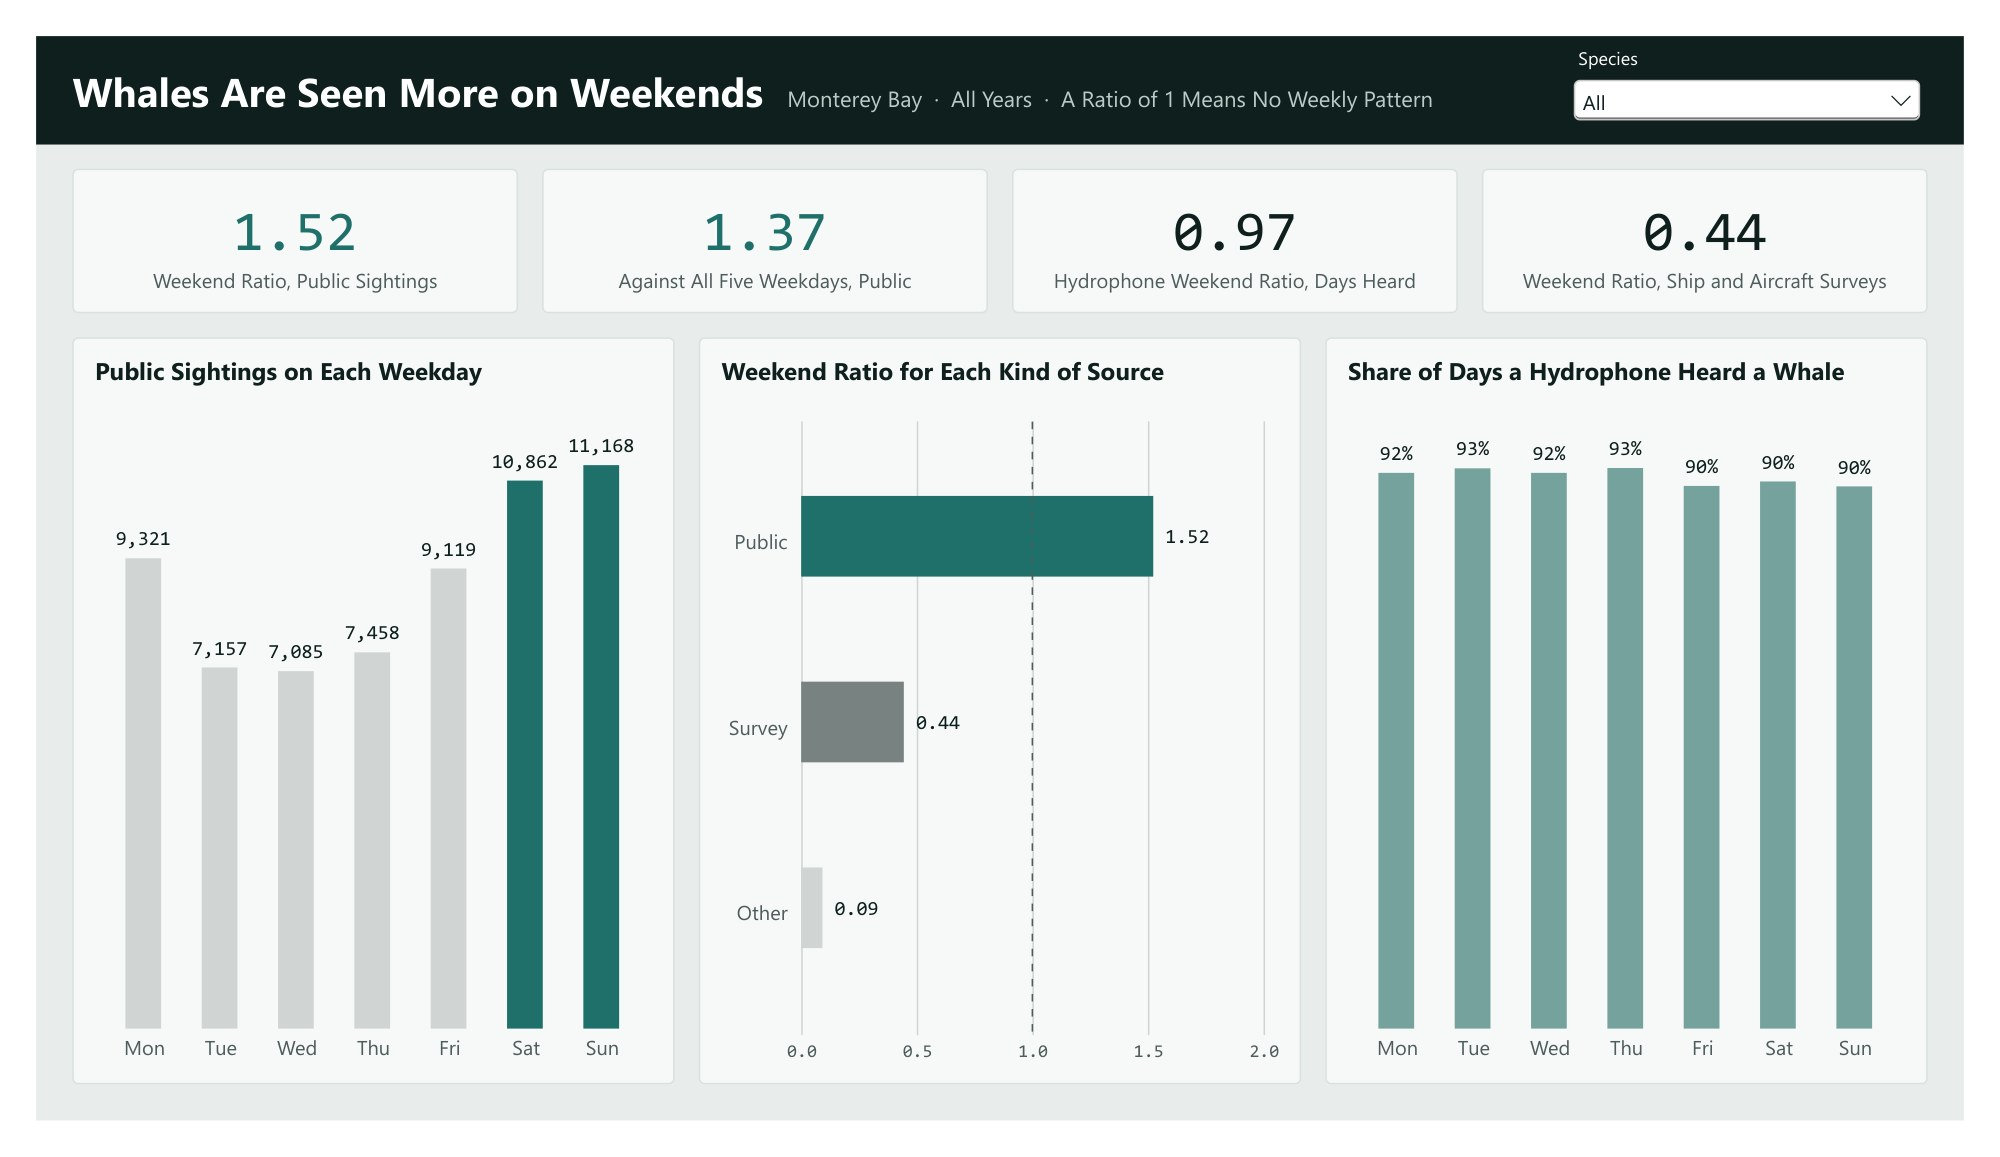

The page's visual inventory and layout, read from the dashboard file:
{"tool":"powerbi","page":{"name":"Whales Are Seen More on Weekends","canvas":[1280,720],"ordinal":0},"visuals":[{"type":"textbox","box":[0,0,1280,72],"z":1000},{"type":"slicer","fields":{"Values":["dim_species.common_name"]},"box":[1016,6,240,62],"z":2000},{"type":"card","fields":{"Values":["fct_sighting.Weekend Ratio"]},"box":[24,88,296,96],"z":3000},{"type":"card","fields":{"Values":["fct_sighting.Weekend Ratio Against All Weekdays"]},"box":[336,88,296,96],"z":4000},{"type":"card","fields":{"Values":["fct_sighting.Heard Day Ratio"]},"box":[648,88,296,96],"z":5000},{"type":"card","fields":{"Values":["fct_sighting.Weekend Ratio"]},"box":[960,88,296,96],"z":6000},{"type":"clusteredColumnChart","title":"Public Sightings on Each Weekday","fields":{"Category":["dim_date.weekday_name"],"Y":["fct_sighting.Records"]},"box":[24,200,400,496],"z":7000},{"type":"clusteredBarChart","title":"Weekend Ratio for Each Kind of Source","fields":{"Category":["dim_dataset.kind"],"Y":["fct_sighting.Weekend Ratio"]},"box":[440,200,400,496],"z":8000},{"type":"clusteredColumnChart","title":"Share of Days a Hydrophone Heard a Whale","fields":{"Category":["dim_date.weekday_name"],"Y":["fct_sighting.Share of Days Heard"]},"box":[856,200,400,496],"z":9000}]}

Visuals, with their boxes in screenshot pixels (x1, y1, x2, y2), scaled from the page's 1280x720 canvas onto the 2000x1157 screenshot:
textbox: box=[0, 0, 1999, 116]
slicer - dim_species.common_name: box=[1588, 10, 1962, 109]
card - fct_sighting.Weekend Ratio: box=[38, 141, 500, 296]
card - fct_sighting.Weekend Ratio Against All Weekdays: box=[525, 141, 988, 296]
card - fct_sighting.Heard Day Ratio: box=[1012, 141, 1475, 296]
card - fct_sighting.Weekend Ratio: box=[1500, 141, 1962, 296]
"Public Sightings on Each Weekday" clusteredColumnChart: box=[38, 321, 662, 1118]
"Weekend Ratio for Each Kind of Source" clusteredBarChart: box=[688, 321, 1312, 1118]
"Share of Days a Hydrophone Heard a Whale" clusteredColumnChart: box=[1338, 321, 1962, 1118]
